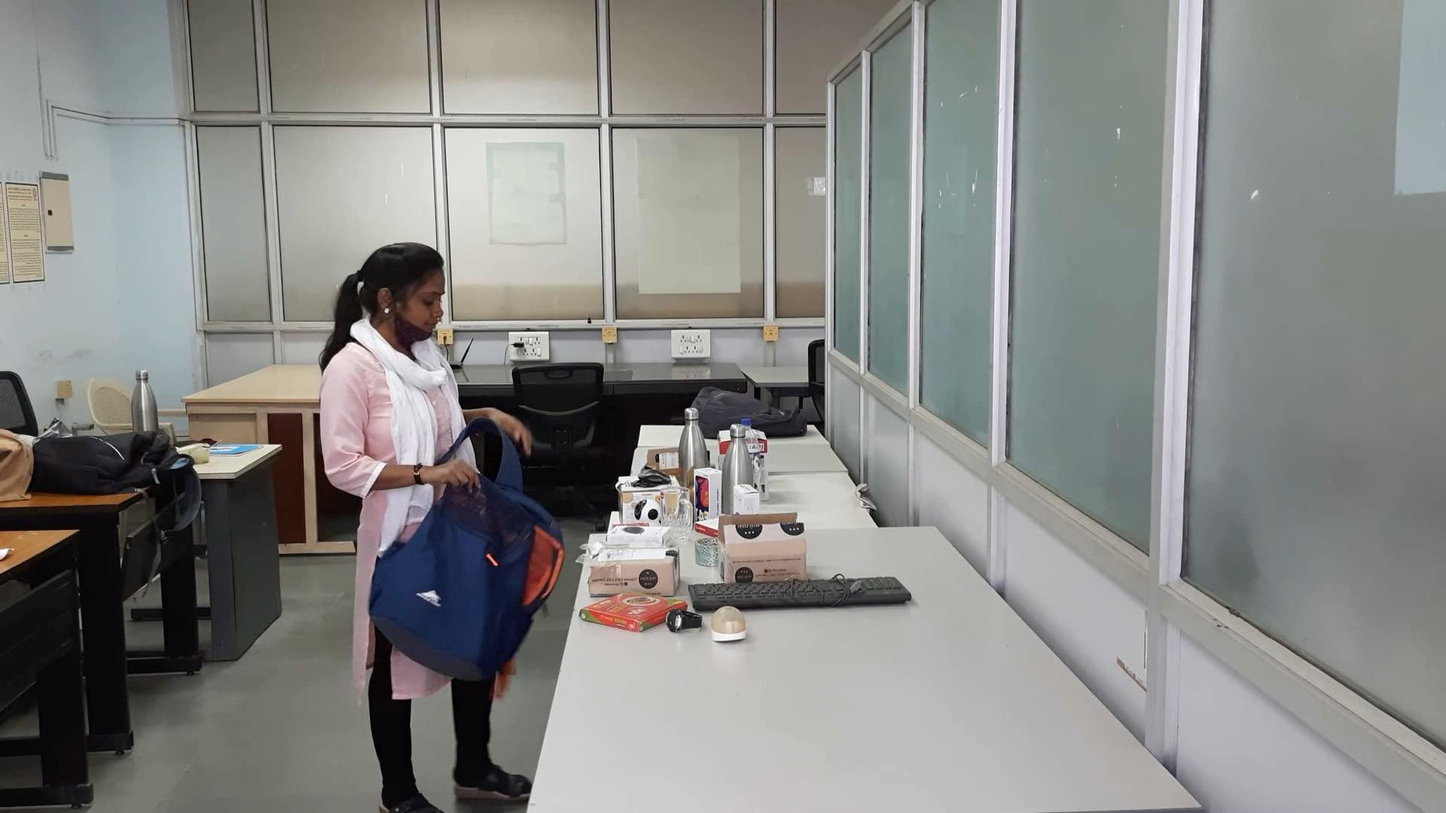shoplifting: (302, 410, 729, 695)
